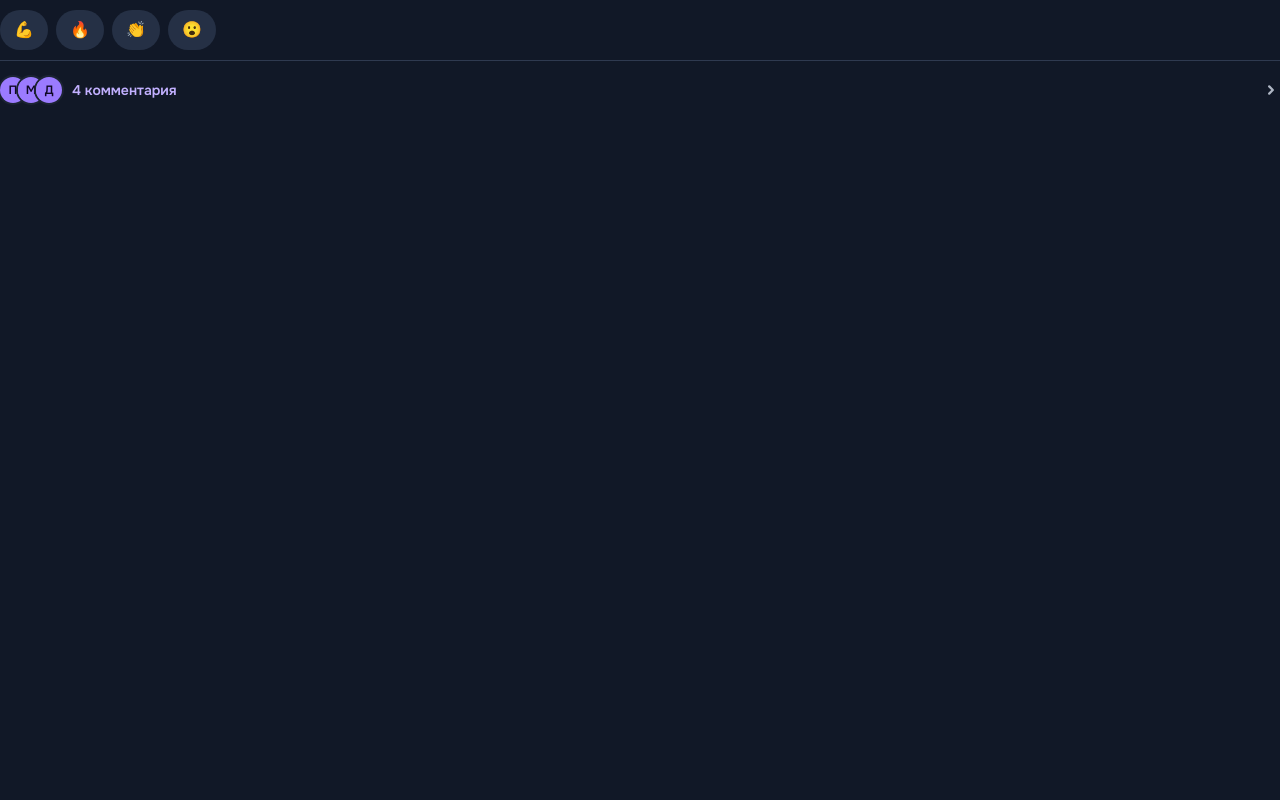
Test: WorkoutSocial — строка комментариев › без сети плашка «только читать» — тоже в подвале, а не в прокрутке
Click the button "П М Д 4 комментария". click: (124, 90)
box: [0,60,1279,104]
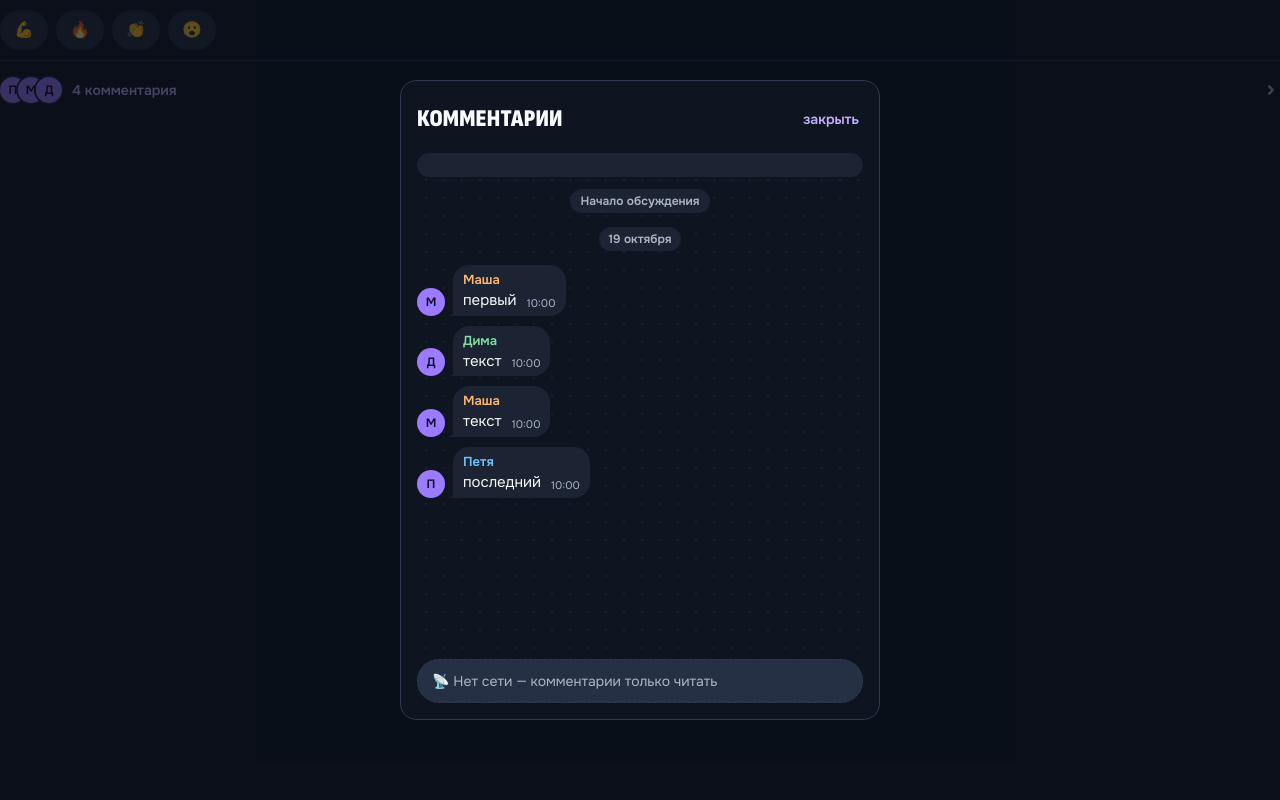
Expected: the element with class "cm-foot" shows "Нет сети — комментарии только читать", [432,672,718,690]
